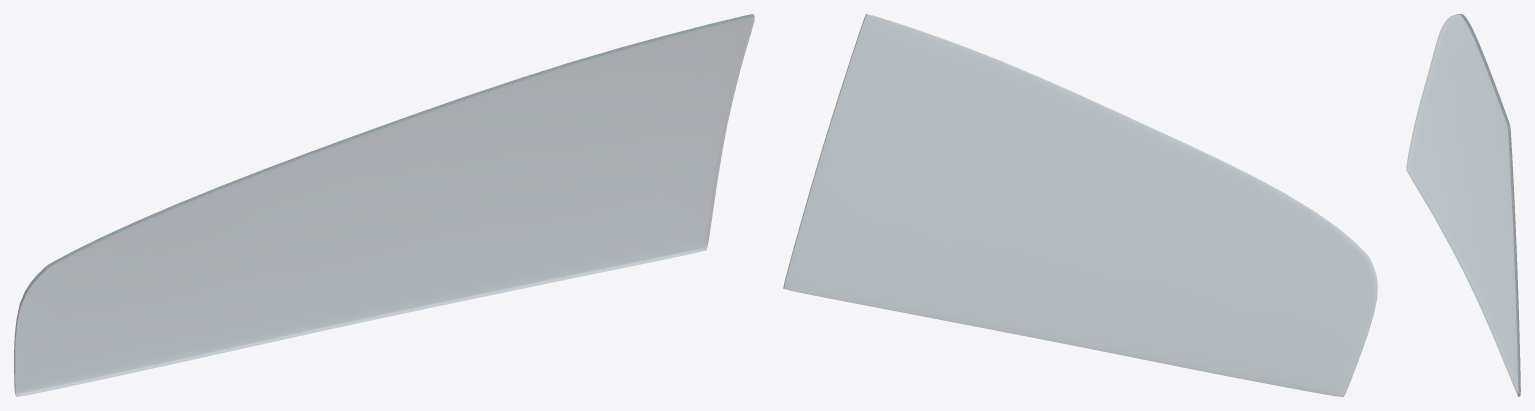
3 renders of one model, left to right at view 1: azimuth 30°, elevation 25°; view 2: azimuth 150°, elevation 25°; view 3: azimuth 270°, elevation 25°, orthographic. The views are drawn at different scales.
Visible parts, largest first — view 1: SM_DodgeChargerCop_Door_RL_Glass_Ext1; view 2: SM_DodgeChargerCop_Door_RL_Glass_Ext1; view 3: SM_DodgeChargerCop_Door_RL_Glass_Ext1.
Boxes of the visible parts, x1,y1,x2,y2 form: SM_DodgeChargerCop_Door_RL_Glass_Ext1: [14, 14, 754, 396]; SM_DodgeChargerCop_Door_RL_Glass_Ext1: [783, 14, 1377, 396]; SM_DodgeChargerCop_Door_RL_Glass_Ext1: [1406, 14, 1520, 396].
Bounding box in the file's own units: 0.8101 × 0.3221 × 0.1534.
